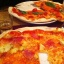pizza: (1, 28, 63, 64), (7, 3, 64, 24)
